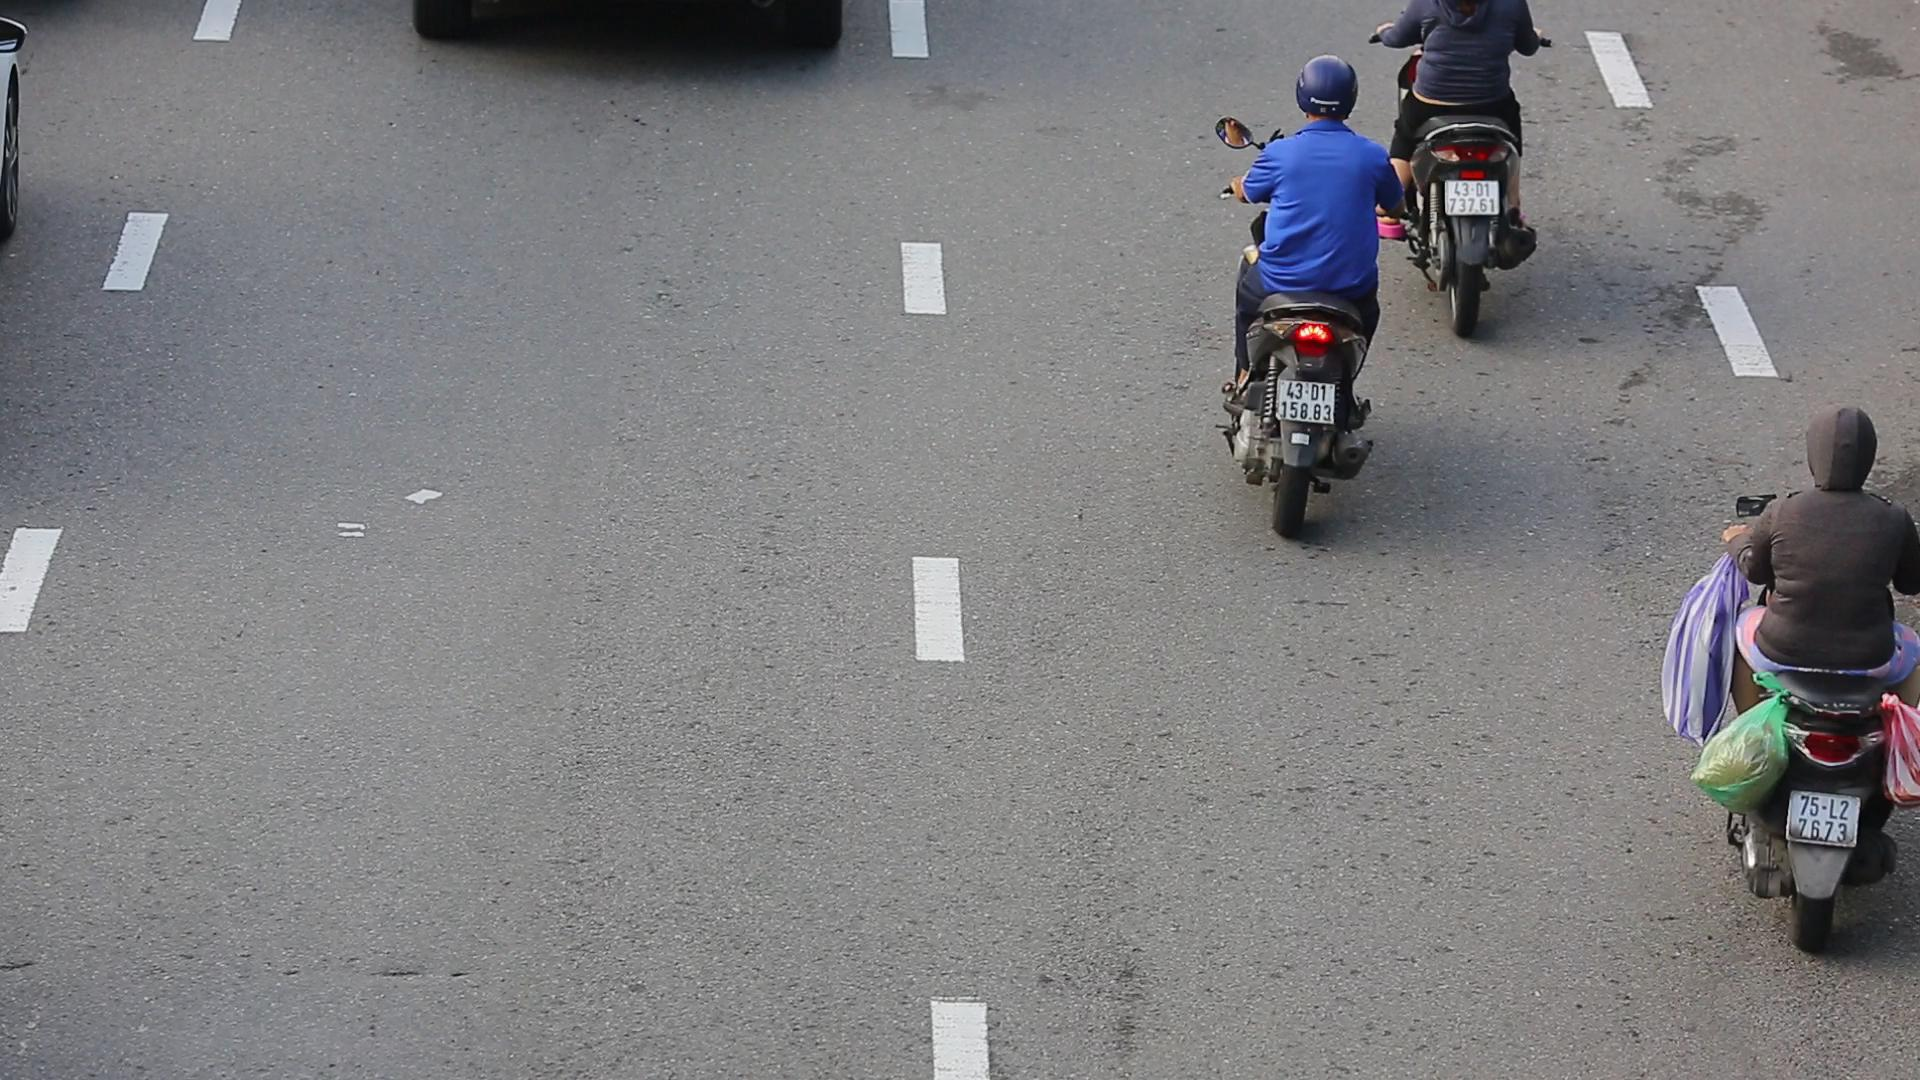motobike: (1205, 54, 1428, 554)
